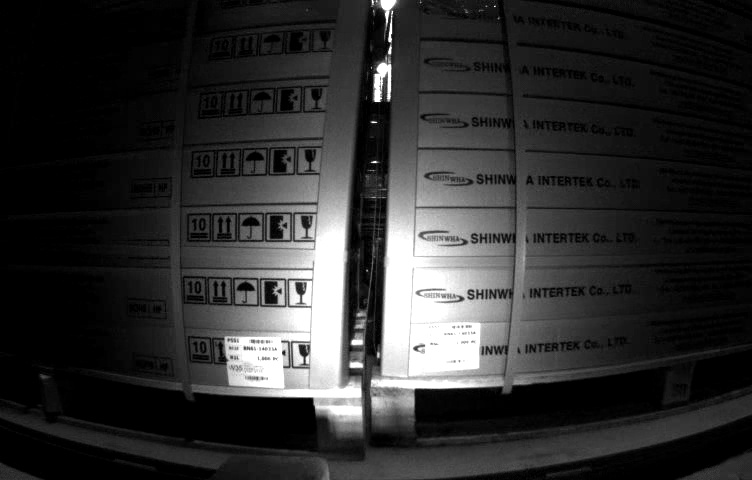True Barcode: (223, 334, 284, 390), (423, 322, 480, 372)
